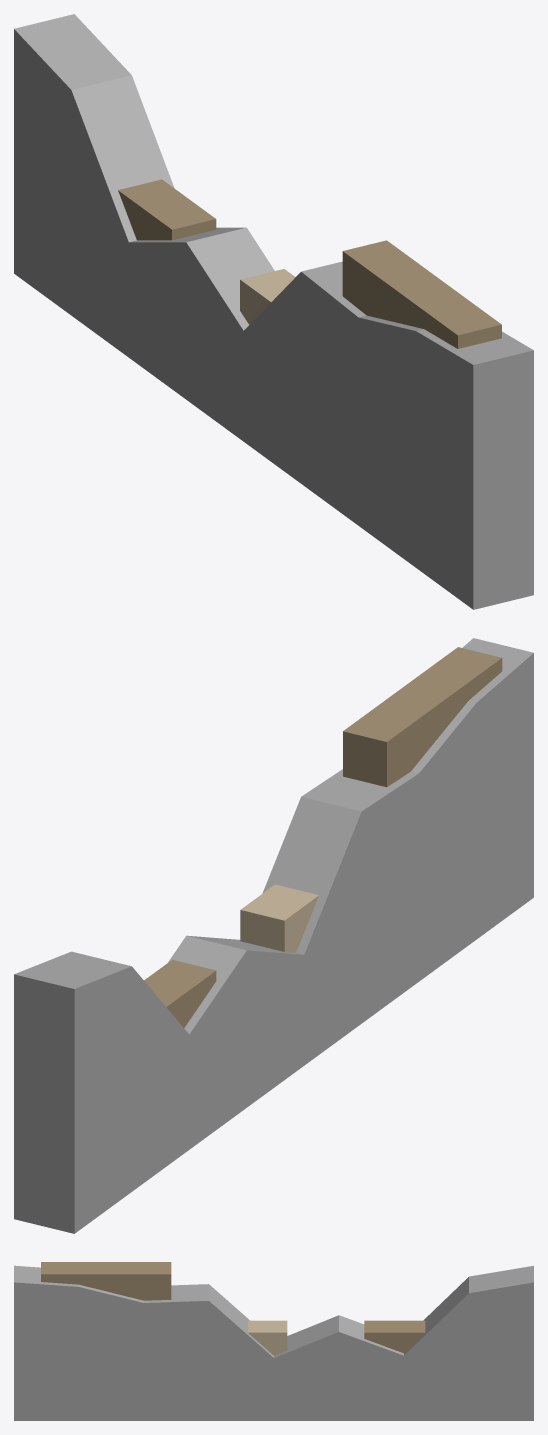
The model's file is LightStoneWallSmallBrokendown1.fbx.
3 views of the same model, one above another, from view 1: azimuth 30°, elevation 25°; view 2: azimuth 150°, elevation 25°; view 3: azimuth 270°, elevation 25° (orthographic). The views are drawn at different scales.
Visible parts, largest first — view 1: LightStoneWallSmallBrokendown1; view 2: LightStoneWallSmallBrokendown1; view 3: LightStoneWallSmallBrokendown1.
Boxes of the visible parts, bbox=[...] form: LightStoneWallSmallBrokendown1: bbox=[14, 14, 533, 609]; LightStoneWallSmallBrokendown1: bbox=[14, 638, 533, 1233]; LightStoneWallSmallBrokendown1: bbox=[14, 1262, 533, 1420].
Size of the model in its own units: 69.32 by 279 by 912.
